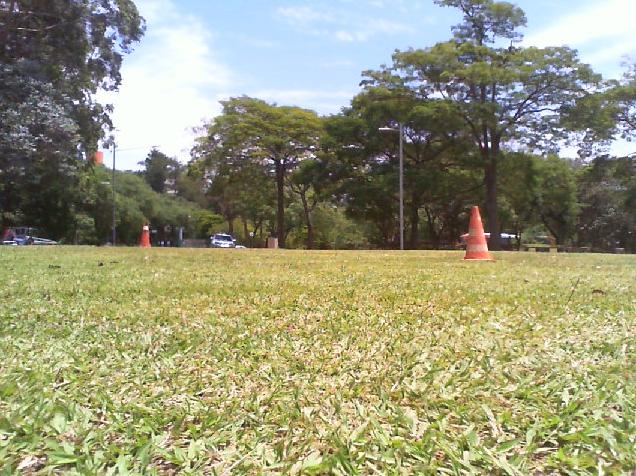0 cone: (461, 206, 494, 261), (137, 221, 152, 248)
